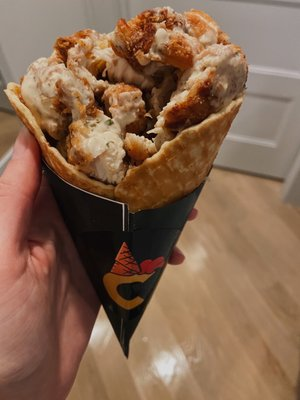salad: (4, 6, 250, 213)
